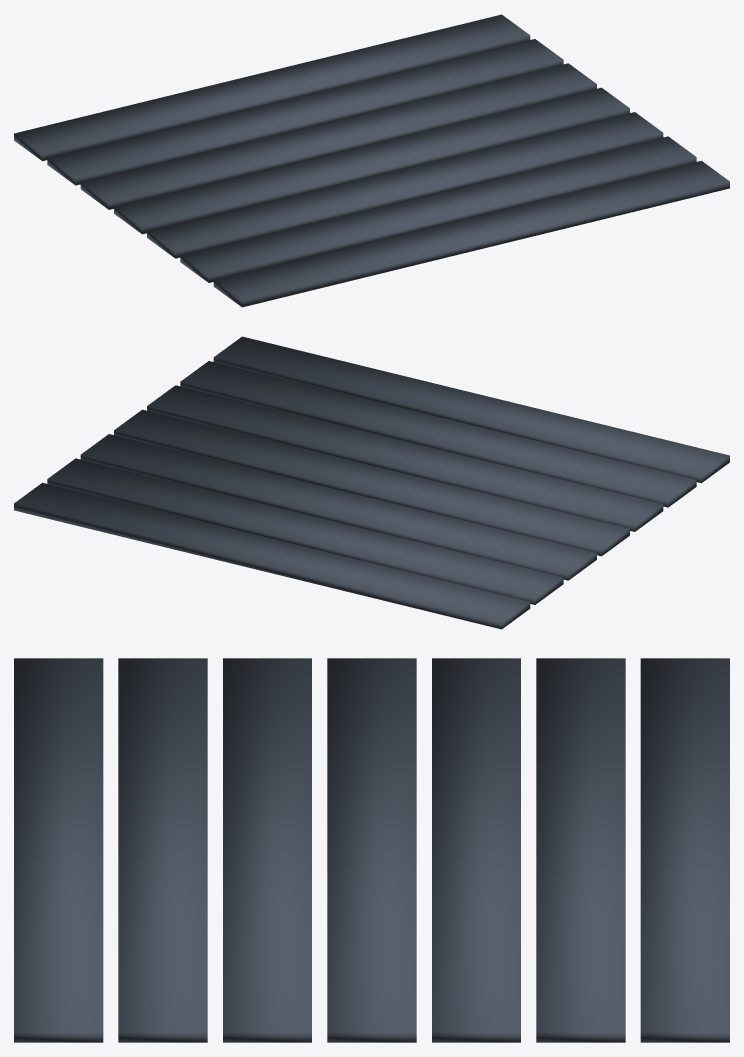
File: 04_L93_CeilingLabLightingArray.glb
3 renders of one model, top to bottom at view 1: azimuth 30°, elevation 25°; view 2: azimuth 150°, elevation 25°; view 3: azimuth 270°, elevation 25°, orthographic. The views are drawn at different scales.
Visible parts, largest first — view 1: L92_CeilingLabLightingArray_Part_0000; view 2: L92_CeilingLabLightingArray_Part_0000; view 3: L92_CeilingLabLightingArray_Part_0000.
Part boxes in pixels (left/top/right/bottom): L92_CeilingLabLightingArray_Part_0000: left=14, top=14, right=729, bottom=307; L92_CeilingLabLightingArray_Part_0000: left=14, top=336, right=729, bottom=629; L92_CeilingLabLightingArray_Part_0000: left=14, top=658, right=729, bottom=1042.
Size of the model in its own units: 22 by 1.36 by 17.82.
